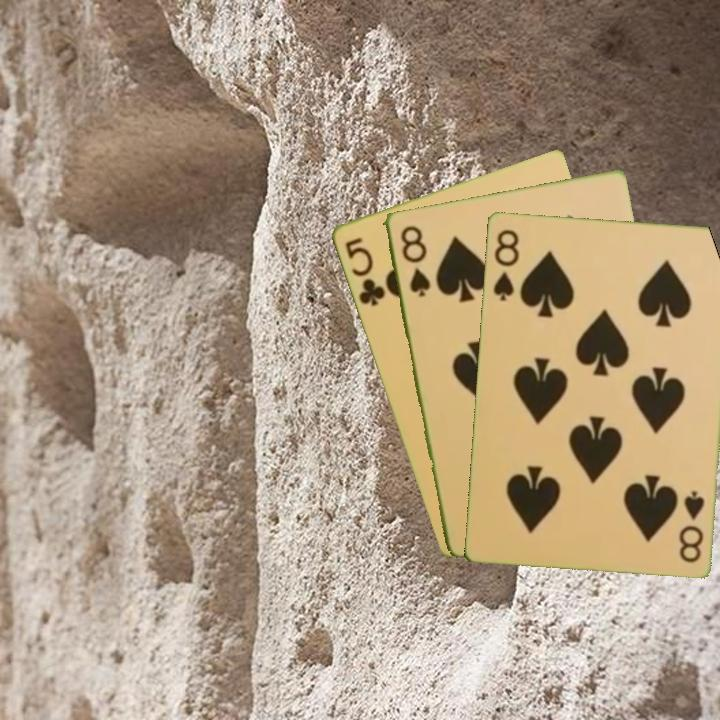5c: (341, 233, 388, 309)
8s: (396, 221, 433, 299), (489, 225, 522, 303), (675, 487, 707, 565)
